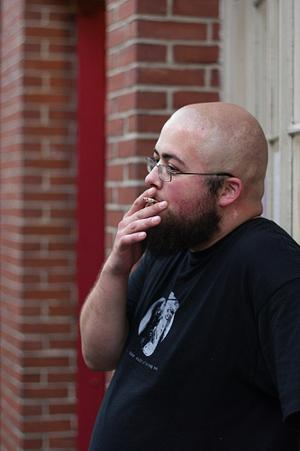person: (77, 95, 300, 450)
